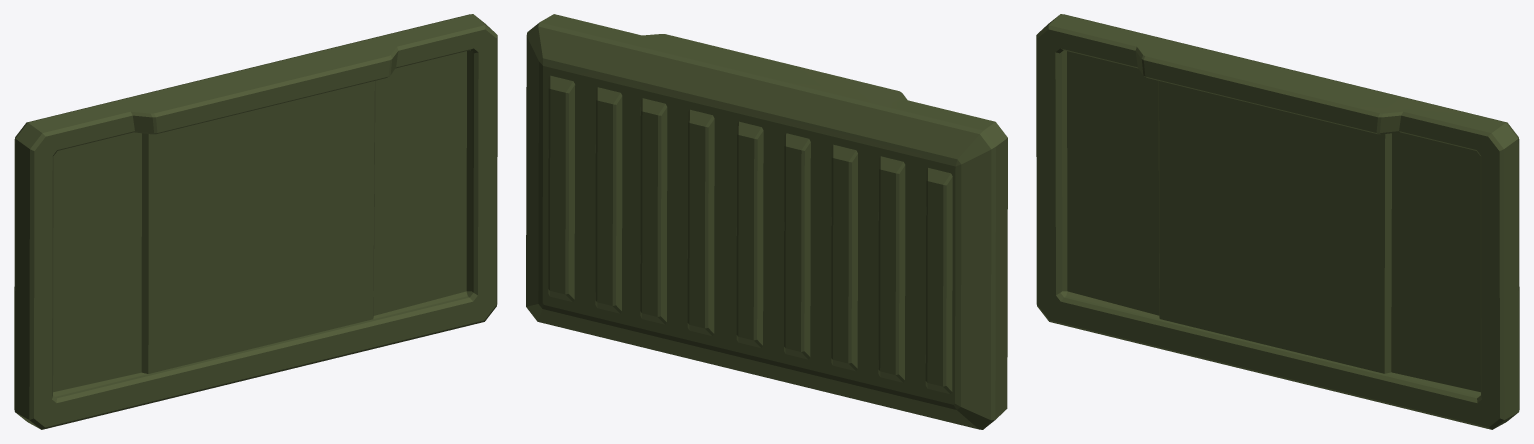
Rendered from caixa_2_tampa.glb.
The picture shows the model from 3 angles, left to right: view 1: azimuth 30°, elevation 25°; view 2: azimuth 150°, elevation 25°; view 3: azimuth 330°, elevation 25°; orthographic projection.
Visible parts, largest first — view 1: SM_WeaponCrate_02_L; view 2: SM_WeaponCrate_02_L; view 3: SM_WeaponCrate_02_L.
Part boxes in pixels (x1=…): SM_WeaponCrate_02_L: x1=14, y1=14, x2=497, y2=429; SM_WeaponCrate_02_L: x1=526, y1=14, x2=1007, y2=429; SM_WeaponCrate_02_L: x1=1036, y1=14, x2=1519, y2=429.
Size of the model in its own units: 57.84 by 35.25 by 8.37.
